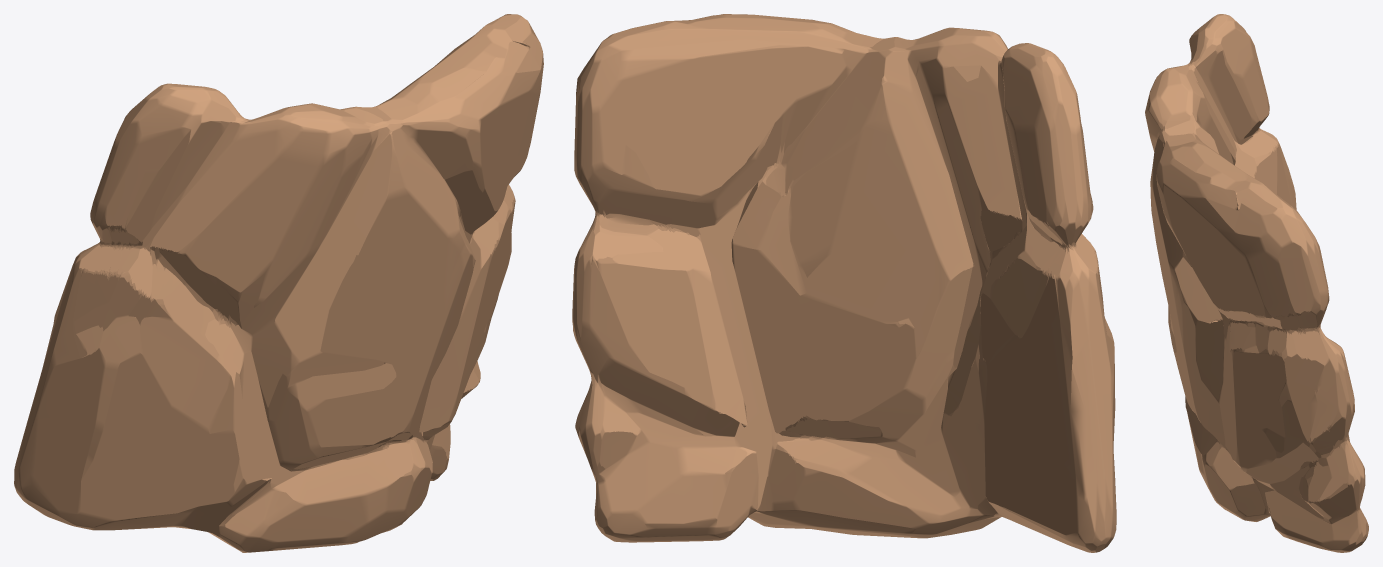
3 renders of one model, left to right at view 1: azimuth 30°, elevation 25°; view 2: azimuth 150°, elevation 25°; view 3: azimuth 270°, elevation 25°, orthographic. The views are drawn at different scales.
Visible parts, largest first — view 1: Mesh_92_LOD0; view 2: Mesh_92_LOD0; view 3: Mesh_92_LOD0.
Part boxes in pixels (<box>): Mesh_92_LOD0: <box>14,14,543,552</box>; Mesh_92_LOD0: <box>572,14,1116,552</box>; Mesh_92_LOD0: <box>1145,14,1368,552</box>.
Size of what is drawn, in the model's own units: 1920 by 1797 by 895.
